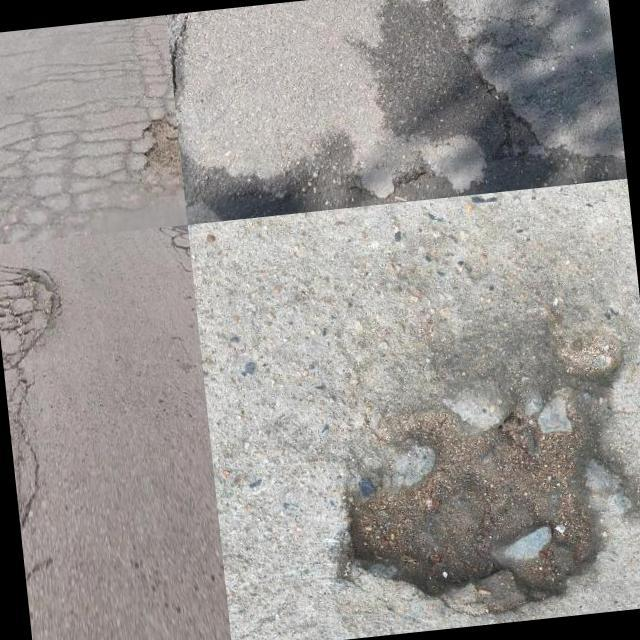Pothole: (339, 332, 640, 618), (0, 260, 60, 370), (139, 111, 182, 176)
